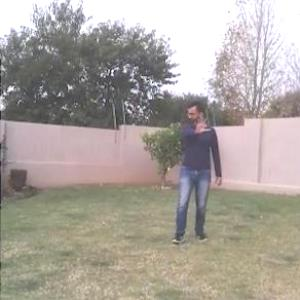follow_hand: (191, 110, 214, 133)
